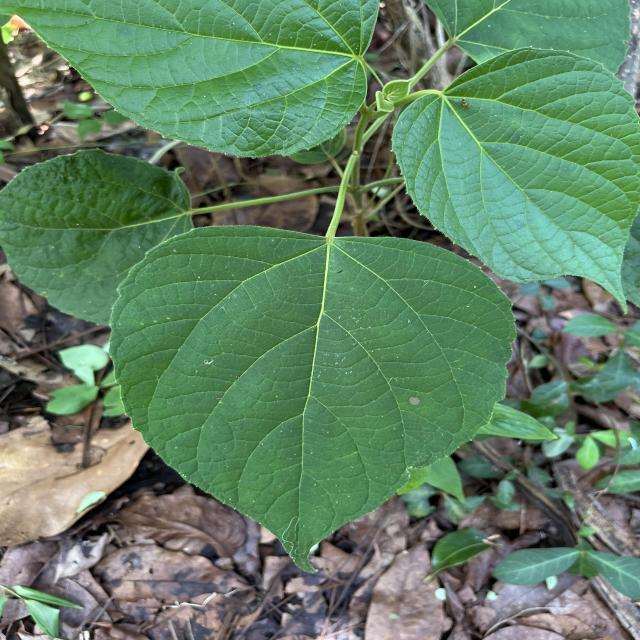Clerodendrum infortunatum: (106, 223, 519, 576), (390, 45, 640, 316)
